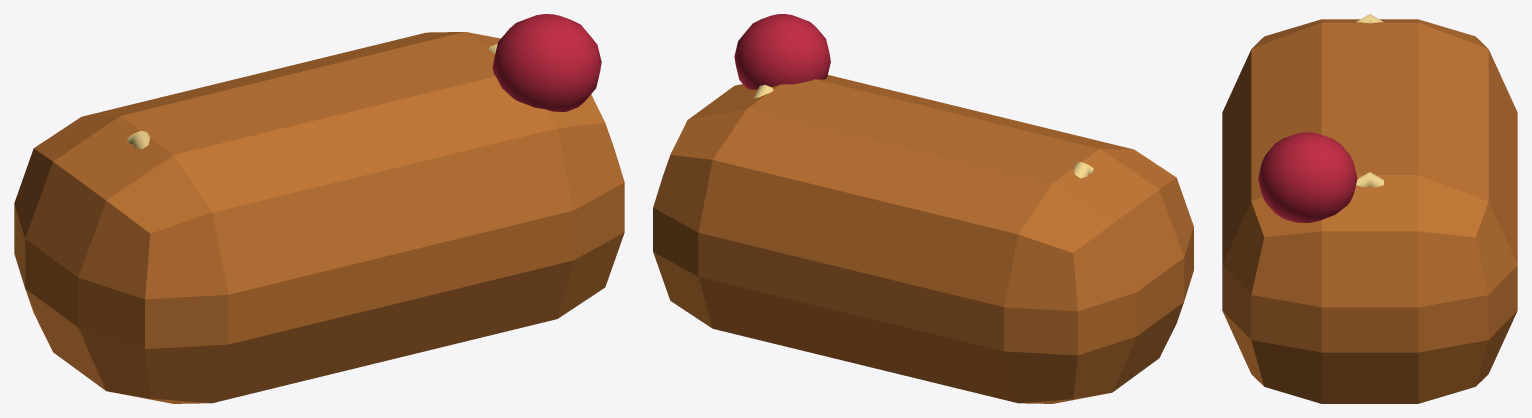
The model's file is chimi-cherry-chonga.glb.
3 views of the same model, side by side, from view 1: azimuth 30°, elevation 25°; view 2: azimuth 150°, elevation 25°; view 3: azimuth 270°, elevation 25° (orthographic). The views are drawn at different scales.
Visible parts, largest first — view 1: edible_pastry, edible_berry.152; view 2: edible_pastry, edible_berry.152; view 3: edible_pastry, edible_berry.152, edible_fold.001.
Boxes of the visible parts, x1,y1,x2,y2 form: edible_pastry: (14, 32, 624, 403); edible_berry.152: (492, 14, 601, 112); edible_pastry: (653, 75, 1193, 403); edible_berry.152: (734, 14, 830, 89); edible_pastry: (1222, 19, 1517, 403); edible_berry.152: (1258, 132, 1357, 222); edible_fold.001: (1356, 172, 1383, 187).
Bounding box in the file's own units: 0.18 × 0.0967 × 0.095.
